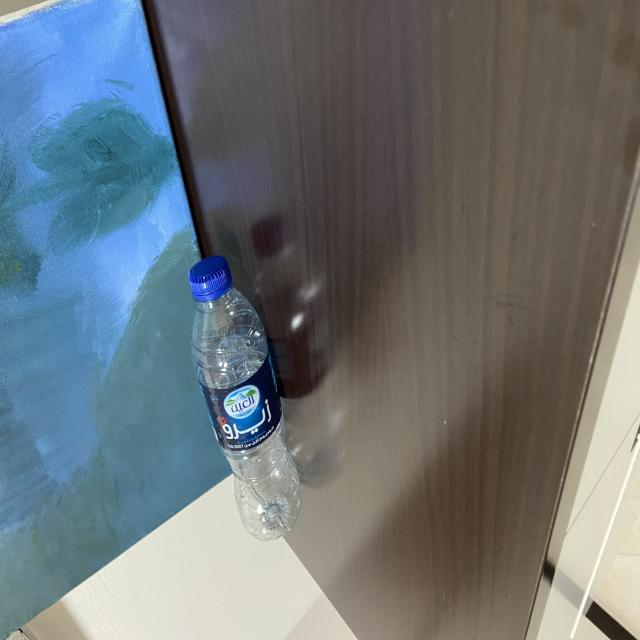bottle: (172, 255, 320, 552)
